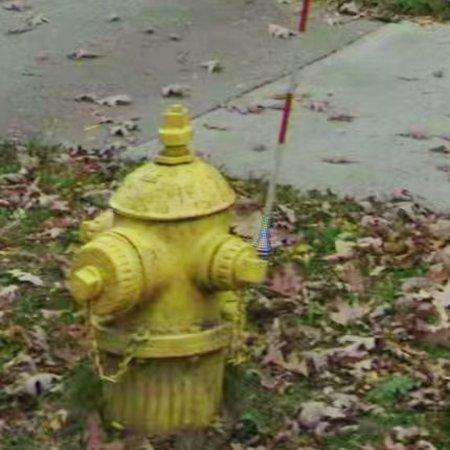a fire hydrant: (70, 105, 267, 432)
